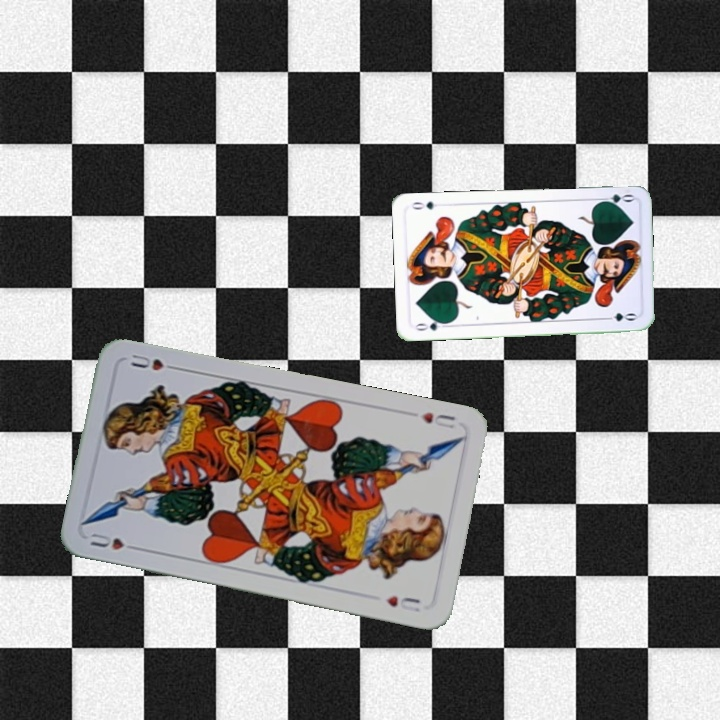GO: (595, 190, 635, 208), (411, 316, 451, 333)
HU: (86, 529, 143, 554), (416, 408, 458, 431)
